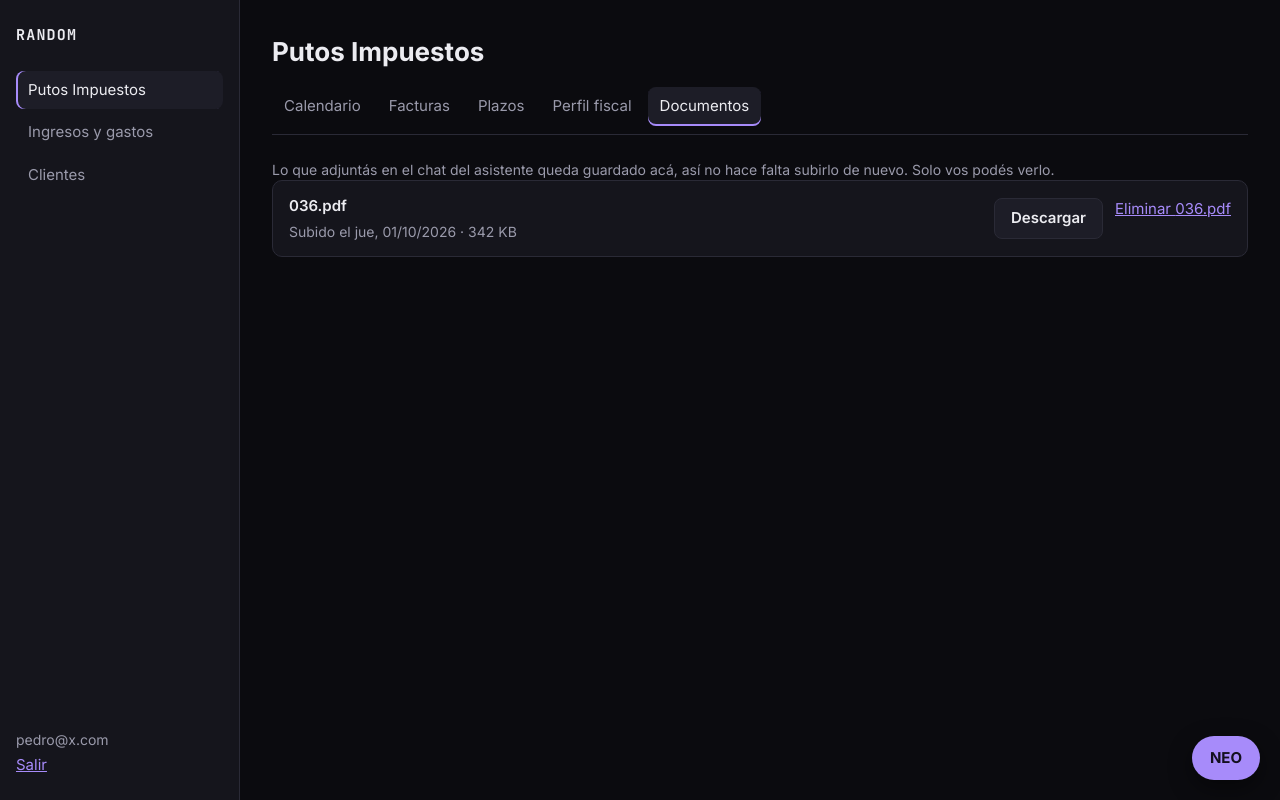
Test: documentos › eliminar pide confirmación y se puede cancelar
Click the button "Eliminar 036.pdf": (1173, 209) top-left (1115, 198), bottom-right (1231, 220)
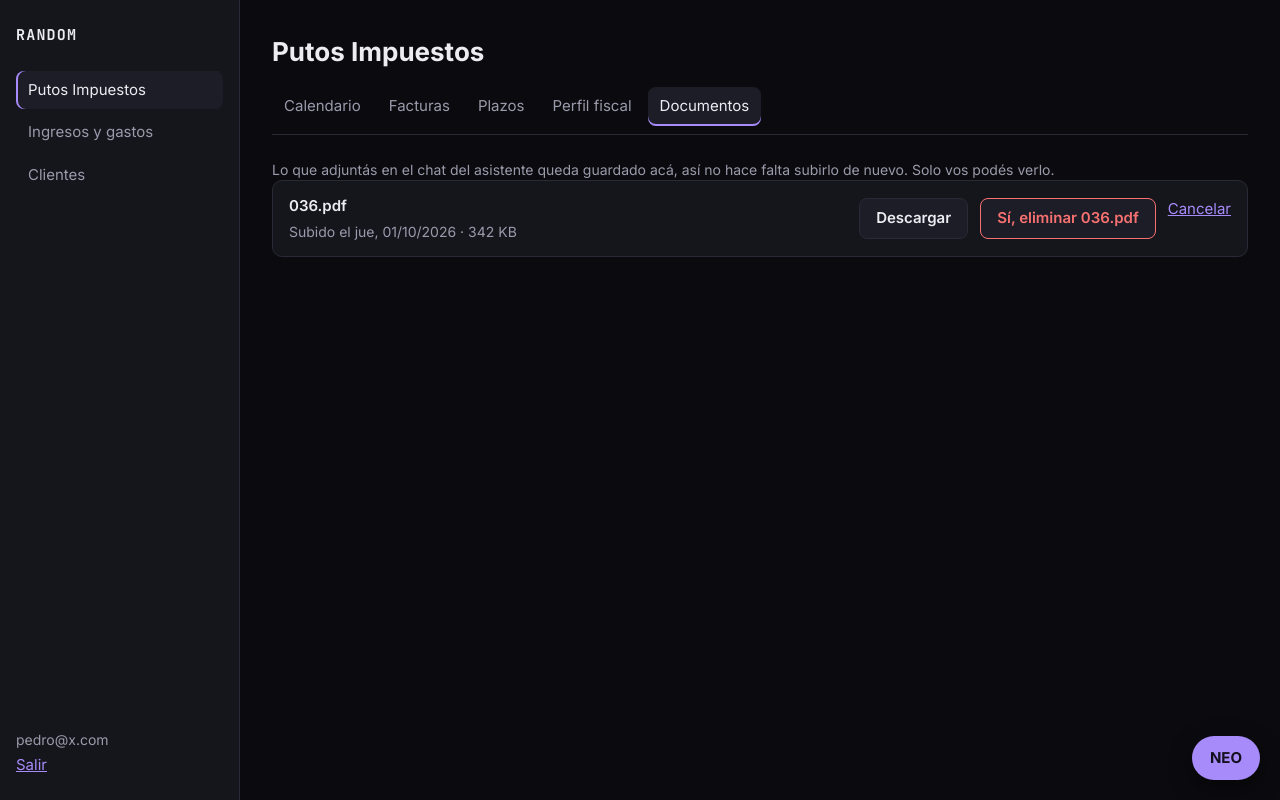
expect the button "Sí, eliminar 036.pdf" is shown: met, box top-left (980, 198), bottom-right (1156, 238)
Click the button "Cancelar": (1199, 209) top-left (1168, 198), bottom-right (1231, 220)
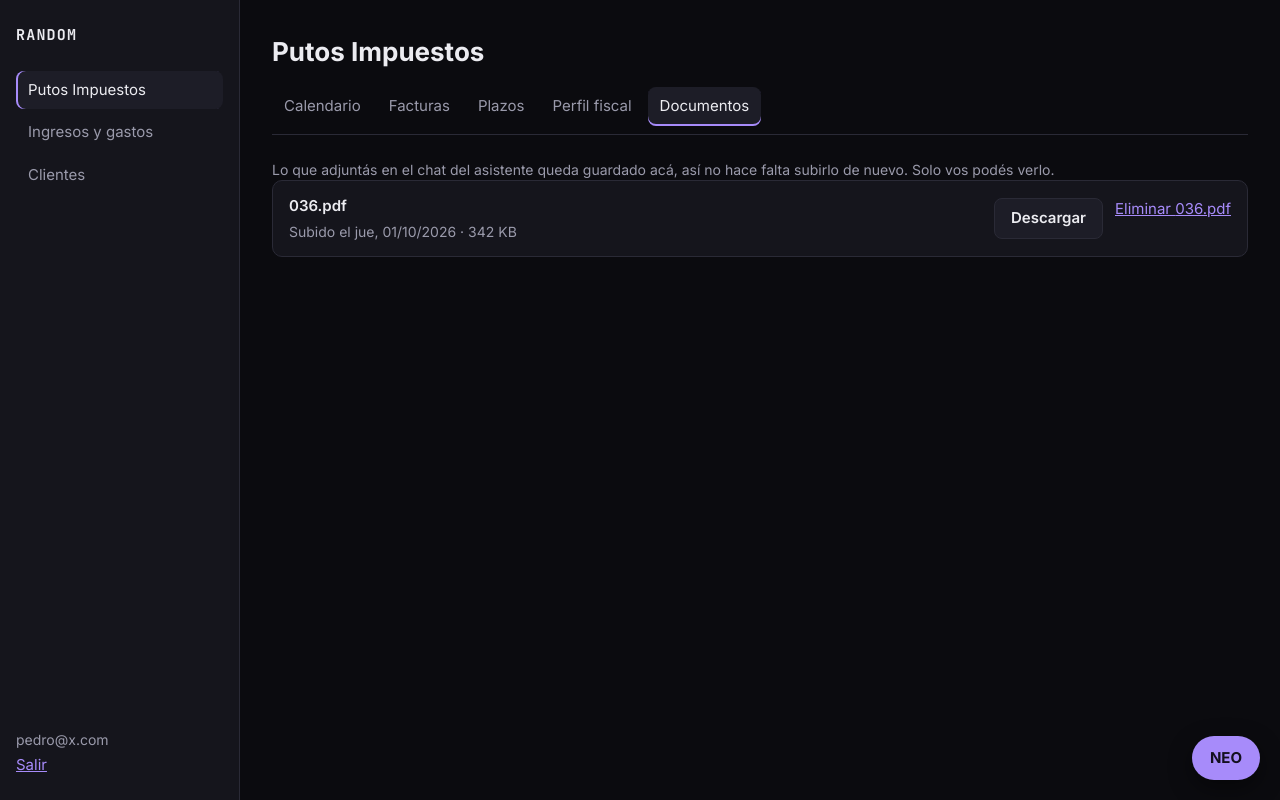
expect the button "Eliminar 036.pdf" is shown: met, box top-left (1115, 198), bottom-right (1231, 220)
